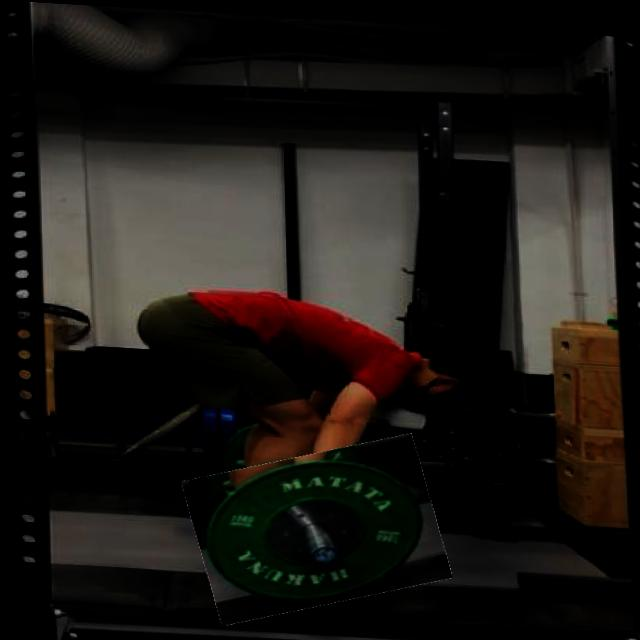barbell: (187, 433, 444, 621)
